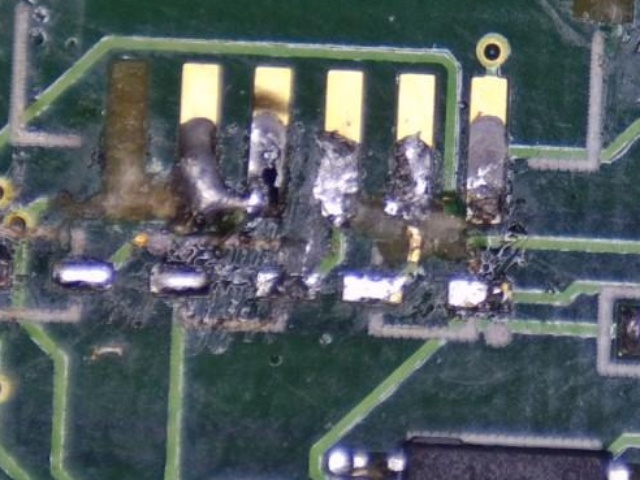pcb_defect: (48, 61, 182, 224), (173, 64, 292, 217), (351, 195, 408, 262), (420, 214, 474, 264), (571, 0, 637, 23)
